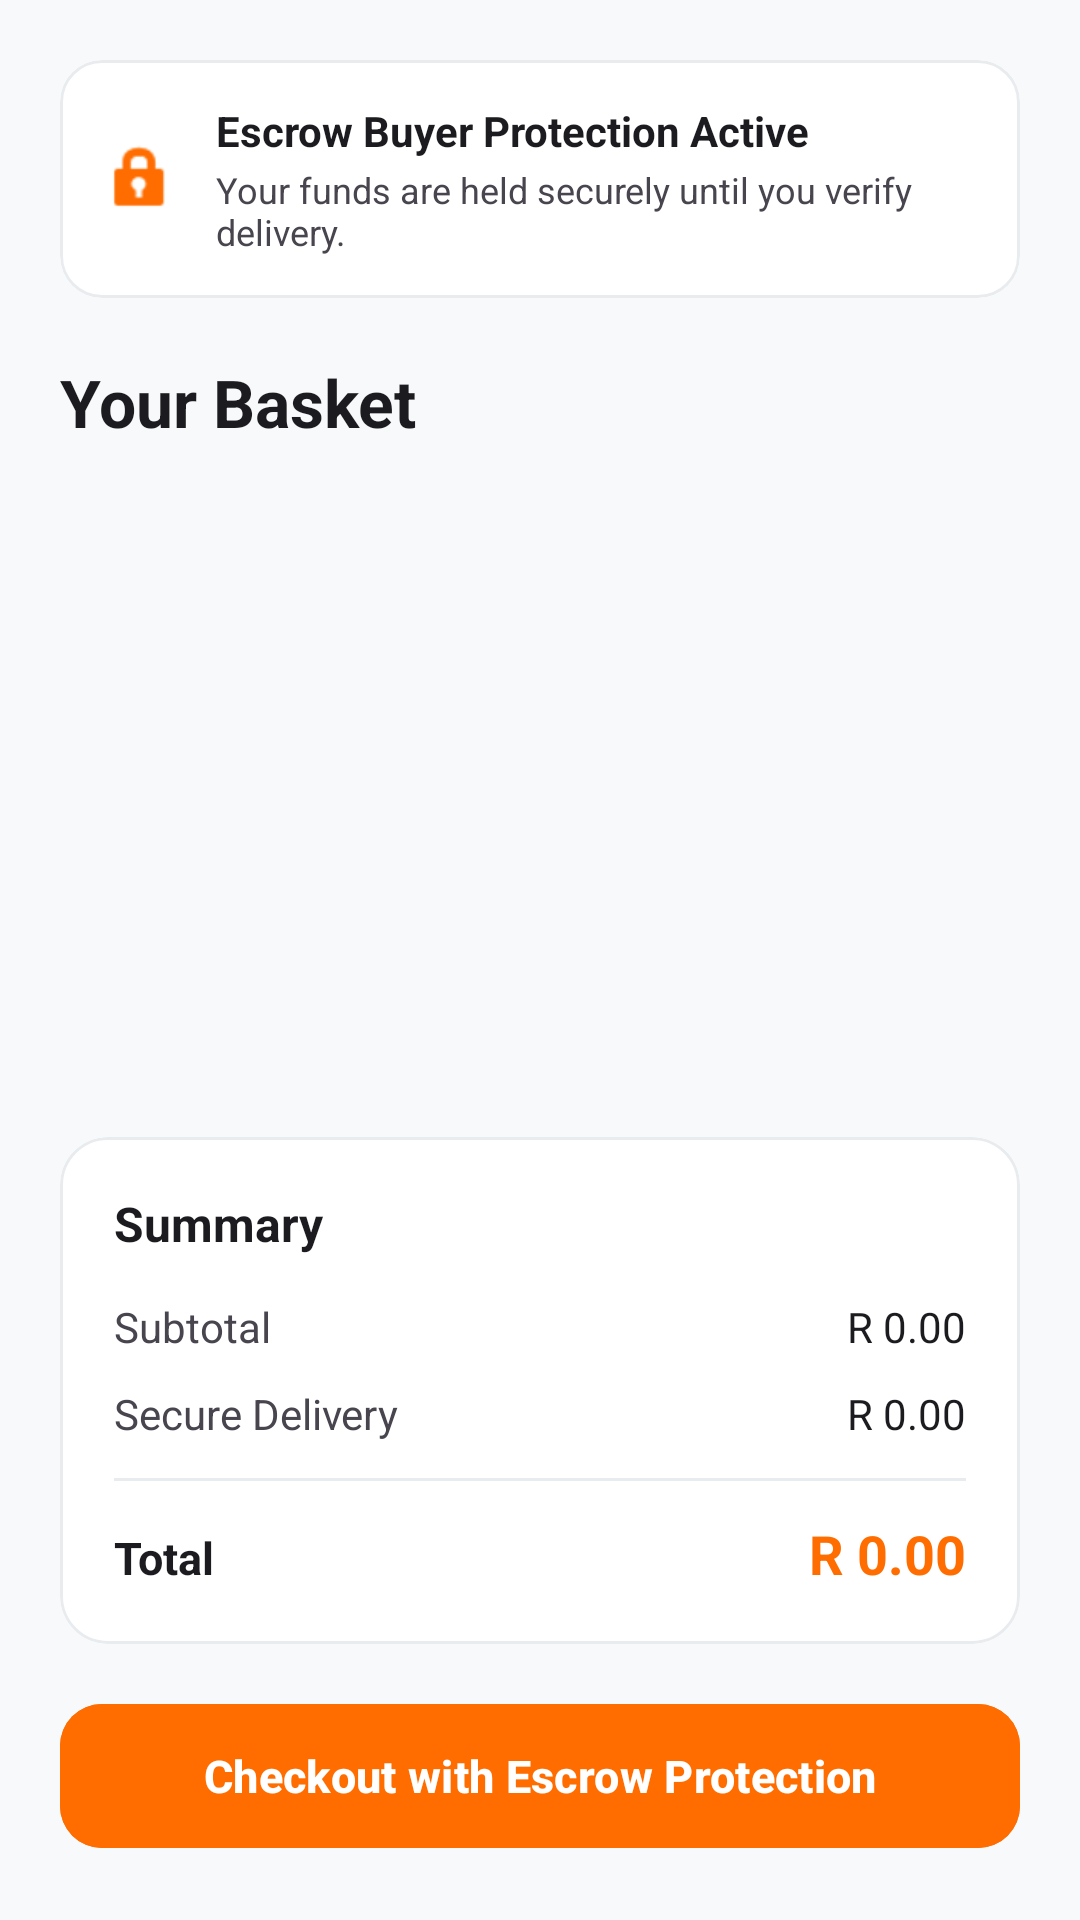

Where icons sit on this 1080x1920 app screen, as [x1,y1,x2,y2]:
Escrow Protected Icon: [114,146,165,206]
